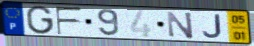4: (129, 9, 154, 39)
9: (96, 8, 120, 37)
F: (54, 6, 84, 36)
G: (26, 5, 55, 36)
J: (202, 14, 224, 40)
N: (165, 11, 195, 40)
